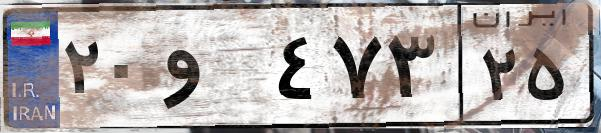0: (110, 28, 158, 98)
2: (57, 26, 110, 100), (475, 38, 525, 113)
3: (385, 28, 445, 110)
4: (270, 28, 330, 110)
5: (525, 38, 570, 115)
7: (330, 28, 385, 110)
و: (158, 20, 270, 120)
